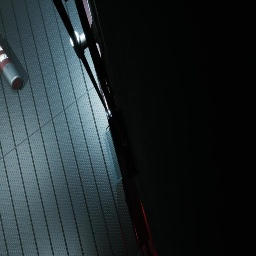EmergencyPhone ,: (116, 106, 118, 110)
NitrogenTank ,: (0, 42, 22, 90)
